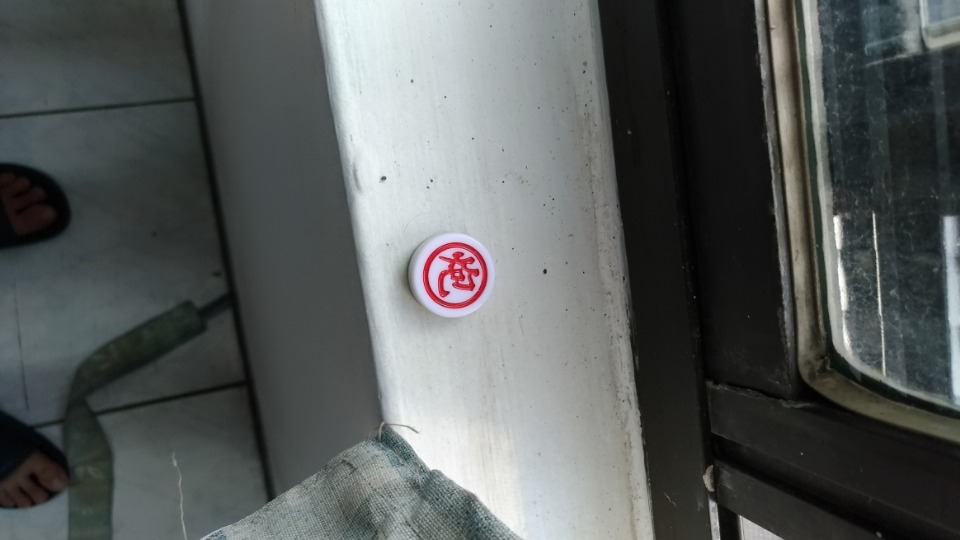r-cannon: (400, 219, 511, 325)
